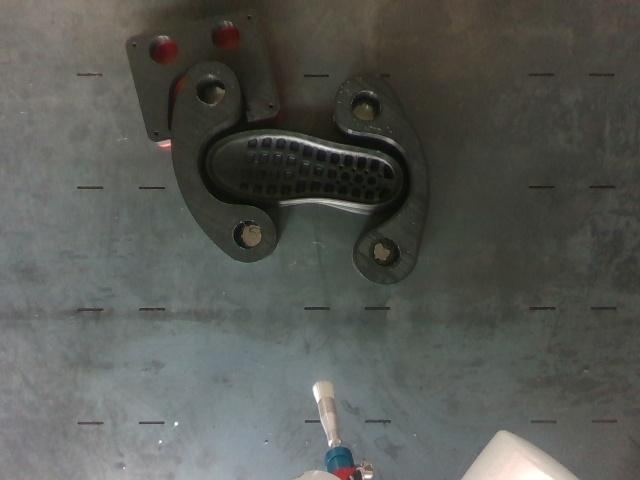shoes: (208, 130, 402, 204)
